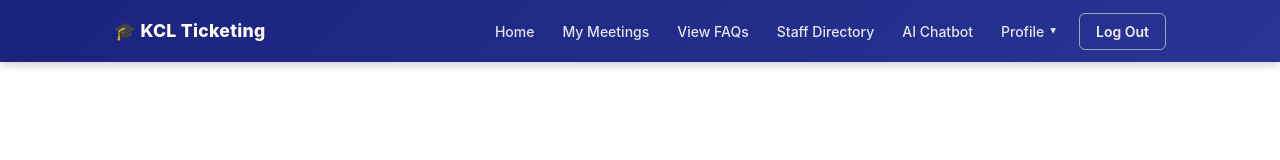
Scenario: UserNavbar — Profile dropdown › dropdown opens when the Profile button is clicked
Click the button "Profile ▾": (1028, 31) [988,12,1069,50]
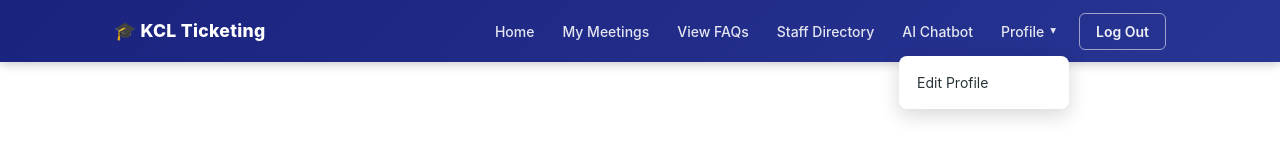
Now the menu is shown, box [899,56,1069,108]
